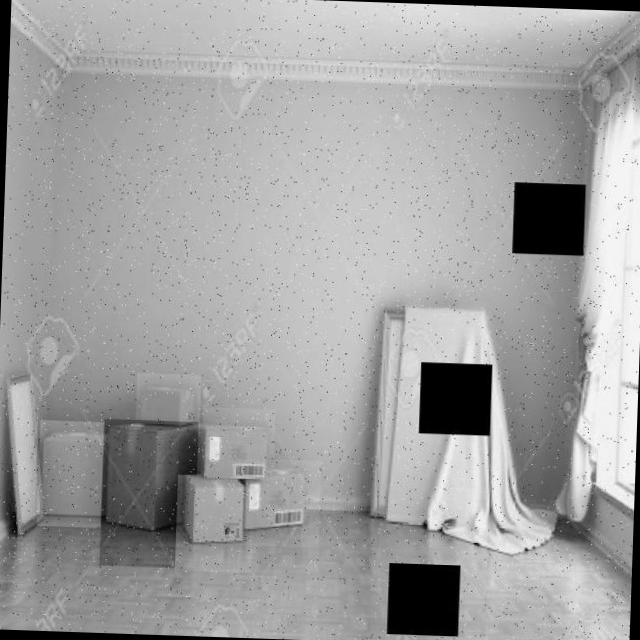box: (99, 418, 198, 568), (36, 420, 111, 528), (174, 474, 254, 573), (236, 458, 322, 548), (200, 406, 275, 491), (134, 372, 200, 438)
